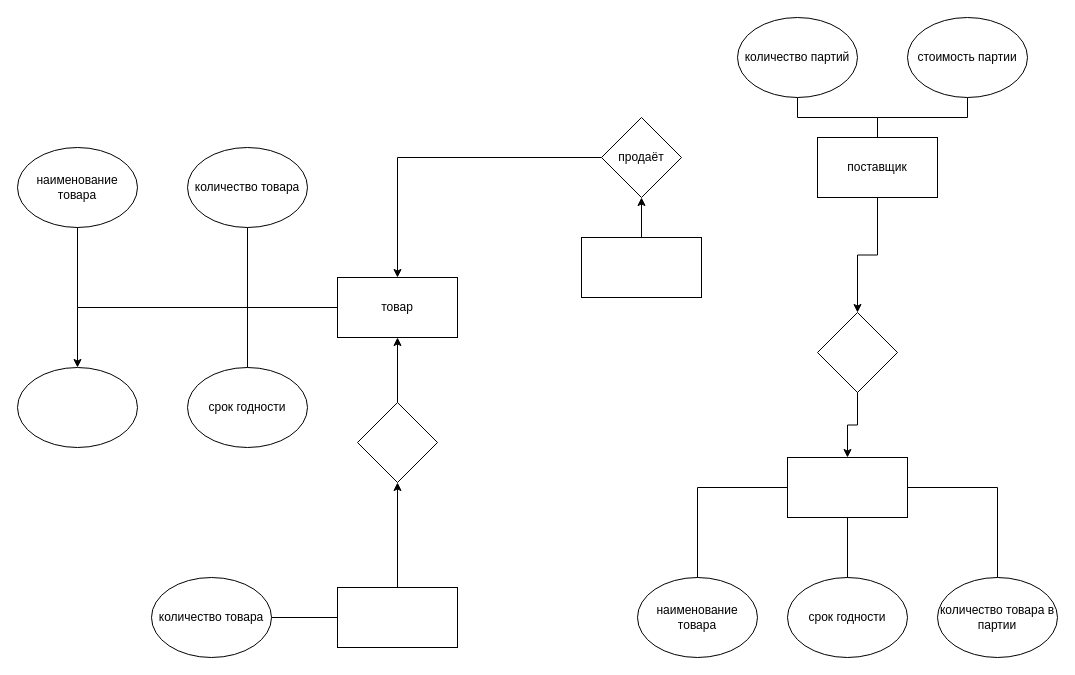
Some shapes in this 1075 by 675 pixel diagram are drawn without their labels. Here are the shapes that lost their labels. From the top down, the centre of each, then its label:
(x=641, y=267): магазин
(x=857, y=352): поставляет
(x=77, y=407): стоимость товара
(x=397, y=442): содержит
(x=847, y=487): партия товара
(x=397, y=617): склад
